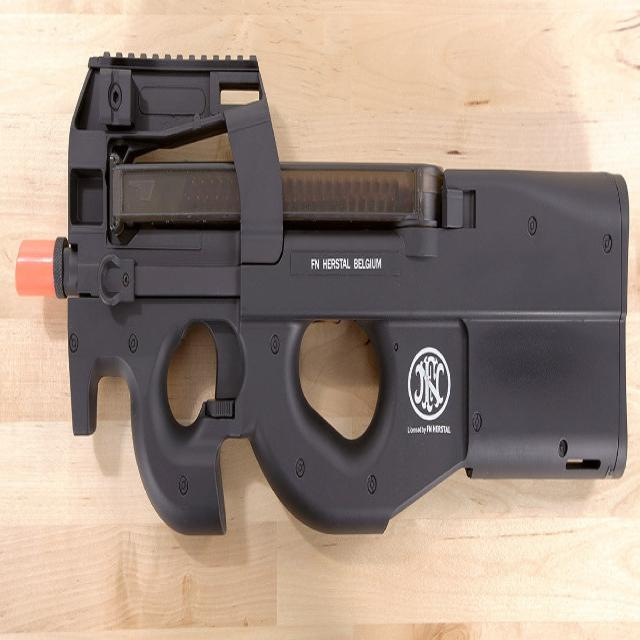SMG: (45, 55, 630, 539)
